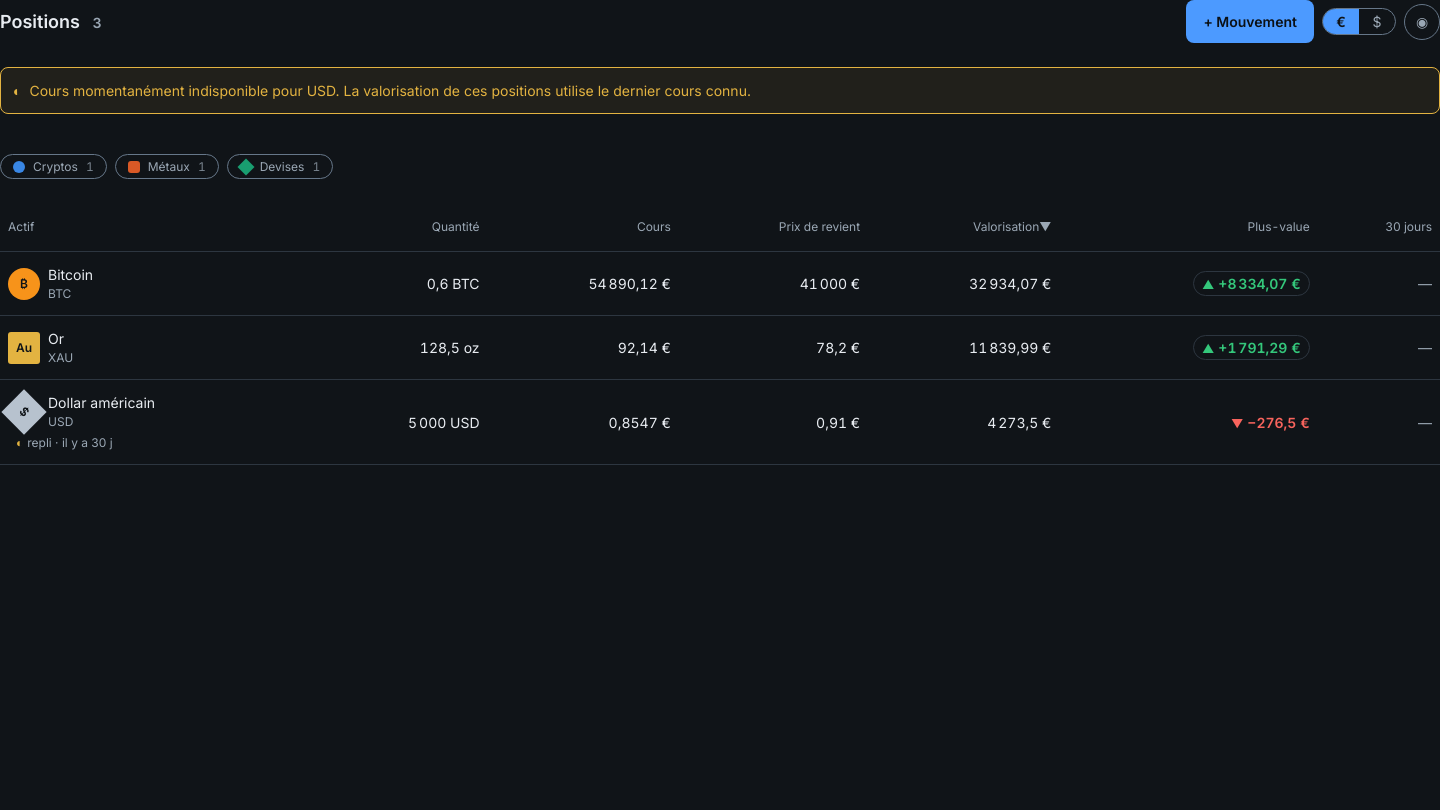
Test: saisie d’un mouvement › ouvre la feuille par-dessus la liste et l'inscrit dans l'adresse
The image size is (1440, 810).
Expected: the table is shown, [0,203,1439,465]
Click the button "+ Mouvement": (1250, 22) [1186,0,1314,43]
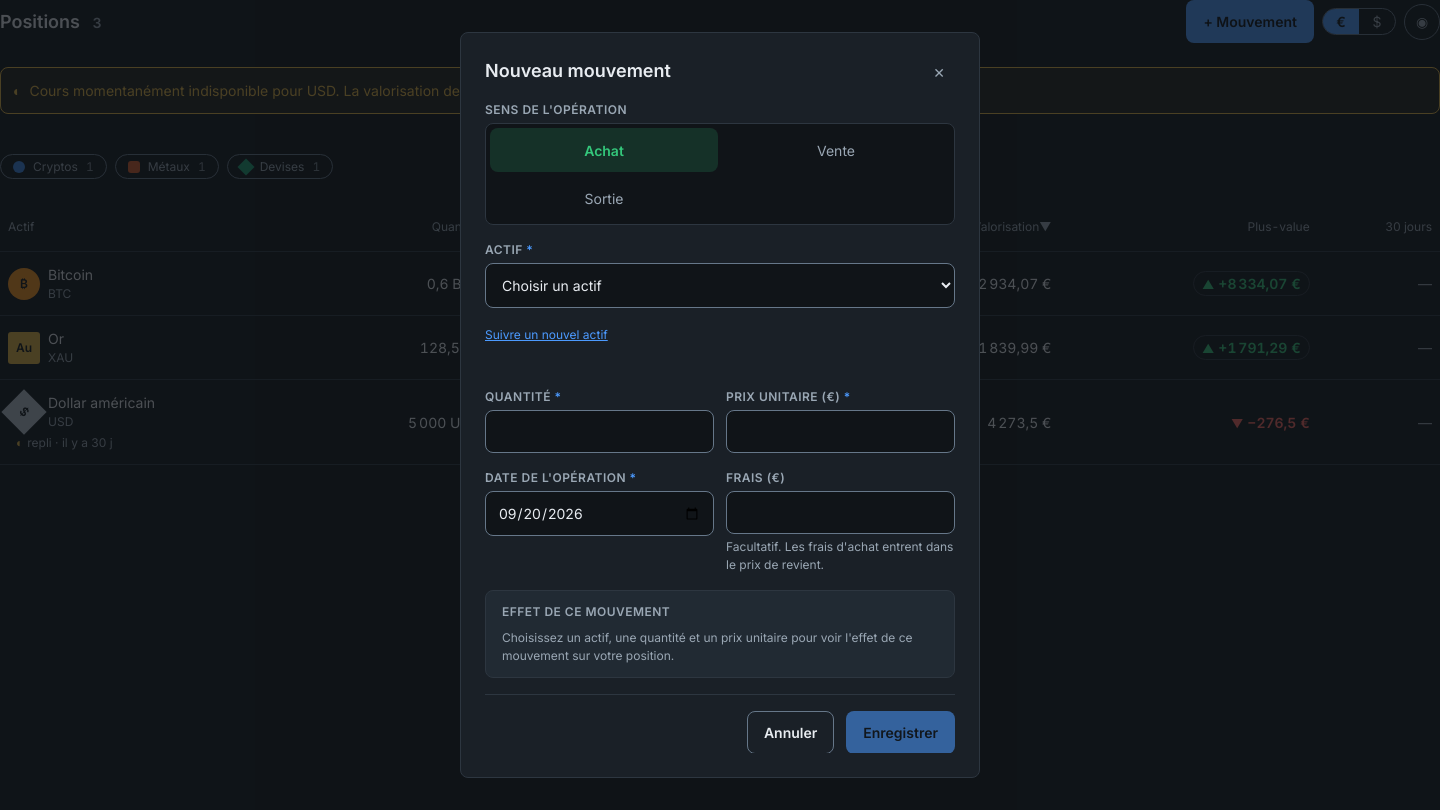
Now the dialog "Nouveau mouvement" is shown, box [460,32,980,778]
